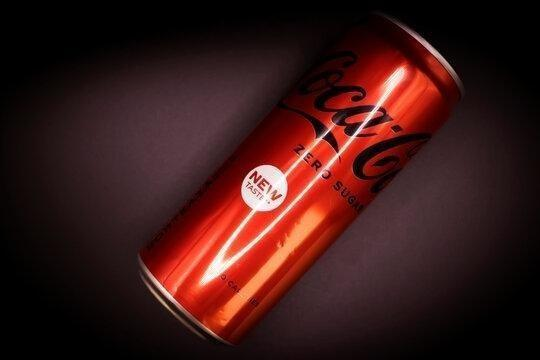tin can: (135, 9, 467, 348)
